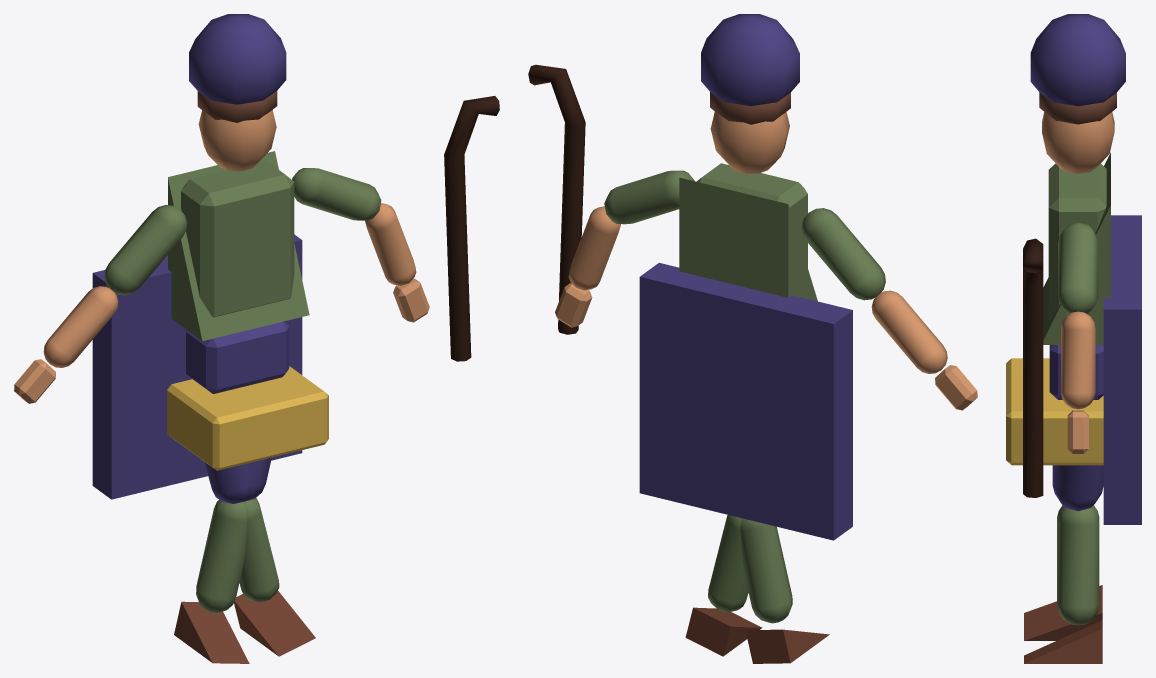
Rendered from adventurer.rustic.glb.
3 renders of one model, left to right at view 1: azimuth 30°, elevation 25°; view 2: azimuth 150°, elevation 25°; view 3: azimuth 270°, elevation 25°, orthographic.
Visible parts, largest first — view 1: accessory.back, torso, accessory.waist, accessory.head, tunic, accessory.main-hand, pelvis, shin.right, upper-arm.left, head, upper-arm.right, forearm.left (+9 smaller); view 2: accessory.back, tunic, accessory.head, accessory.main-hand, upper-arm.left, shin.right, head, forearm.left, upper-arm.right, torso, shin.left, forearm.right (+5 smaller); view 3: accessory.back, accessory.head, accessory.main-hand, accessory.waist, shin.left, torso, upper-arm.right, head, forearm.right, tunic, foot.left, thigh.right (+4 smaller).
Part boxes in pixels (left/top/right/bottom): accessory.back: left=92, top=234, right=302, bottom=499; torso: left=181, top=160, right=294, bottom=317; accessory.waist: left=167, top=366, right=328, bottom=470; accessory.head: left=189, top=14, right=286, bottom=104; tunic: left=168, top=151, right=309, bottom=341; accessory.main-hand: left=444, top=96, right=499, bottom=361; pelvis: left=186, top=321, right=289, bottom=393; shin.right: left=196, top=499, right=247, bottom=613; upper-arm.left: left=104, top=205, right=186, bottom=295; head: left=198, top=110, right=276, bottom=171; upper-arm.right: left=292, top=168, right=381, bottom=220; forearm.left: left=43, top=286, right=118, bottom=367; accessory.back: left=639, top=263, right=852, bottom=540; tunic: left=679, top=177, right=817, bottom=301; accessory.head: left=701, top=14, right=799, bottom=106; accessory.main-hand: left=528, top=64, right=585, bottom=334; upper-arm.left: left=801, top=208, right=885, bottom=300; shin.right: left=740, top=518, right=792, bottom=623; head: left=710, top=111, right=789, bottom=173; forearm.left: left=871, top=290, right=947, bottom=373; upper-arm.right: left=604, top=170, right=694, bottom=224; torso: left=697, top=163, right=807, bottom=267; shin.left: left=708, top=515, right=748, bottom=612; forearm.right: left=568, top=206, right=620, bottom=290; accessory.back: left=1103, top=215, right=1141, bottom=524; accessory.head: left=1030, top=14, right=1125, bottom=106; accessory.main-hand: left=1023, top=238, right=1043, bottom=497; accessory.waist: left=1006, top=358, right=1103, bottom=465; shin.left: left=1057, top=506, right=1099, bottom=625; torso: left=1048, top=163, right=1106, bottom=319; upper-arm.right: left=1058, top=222, right=1098, bottom=314; head: left=1042, top=112, right=1114, bottom=173; forearm.right: left=1061, top=311, right=1095, bottom=409; tunic: left=1043, top=152, right=1110, bottom=344; foot.left: left=1024, top=620, right=1102, bottom=663; thigh.right: left=1052, top=465, right=1103, bottom=511.
Bounding box in the file's own units: 2.52 × 3.28 × 0.64.
